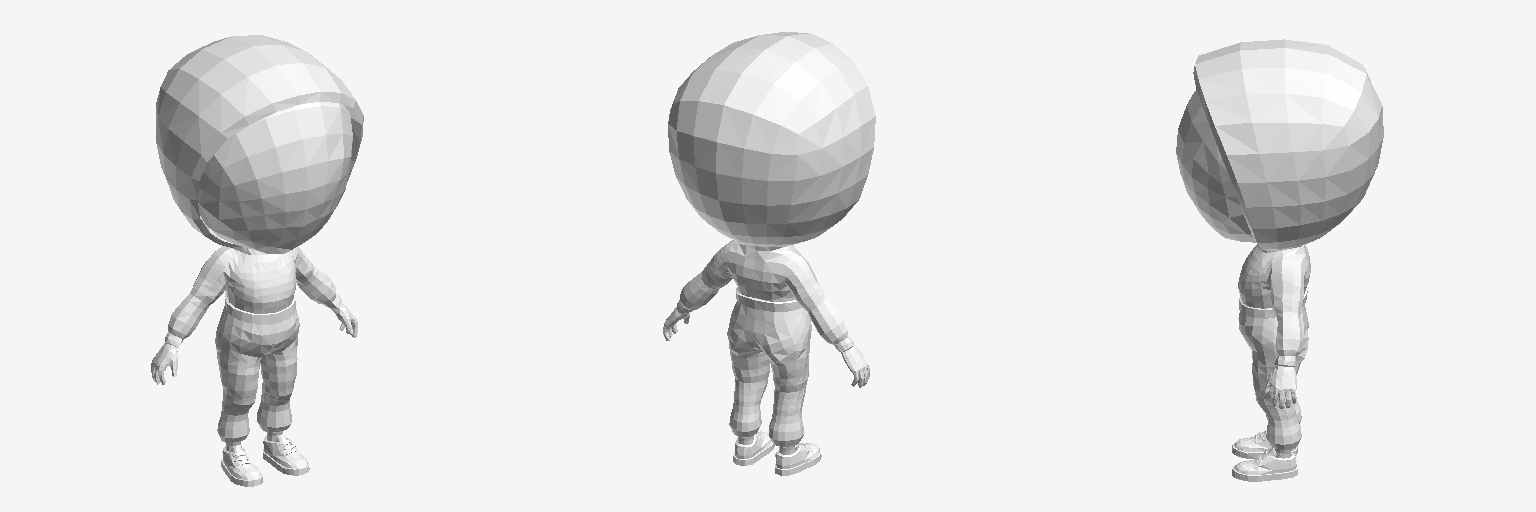
File: guard.obj
3 renders of one model, left to right at view 1: azimuth 30°, elevation 25°; view 2: azimuth 150°, elevation 25°; view 3: azimuth 270°, elevation 25°, orthographic.
Visible parts, largest first — view 1: characters_01_Mesh.028; view 2: characters_01_Mesh.028; view 3: characters_01_Mesh.028.
Part boxes in pixels (x1,y1,x2,y2): characters_01_Mesh.028: (151,35,363,486); characters_01_Mesh.028: (663,32,875,475); characters_01_Mesh.028: (1176,39,1383,481).
Size of the model in its own units: 1 by 1.99 by 0.8999.